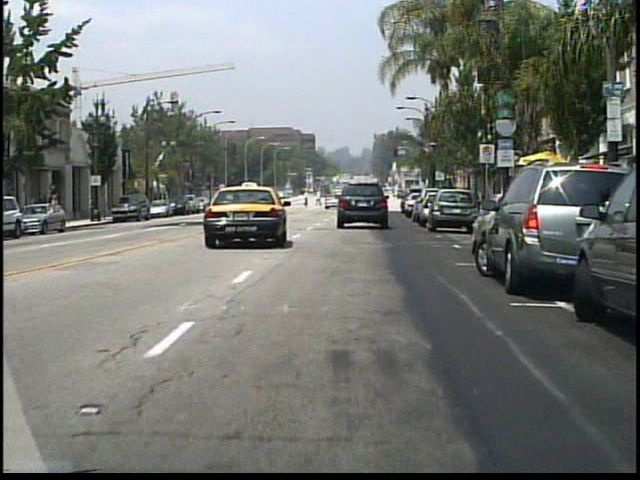person: (51, 193, 62, 224), (317, 190, 325, 209), (302, 191, 310, 209)
